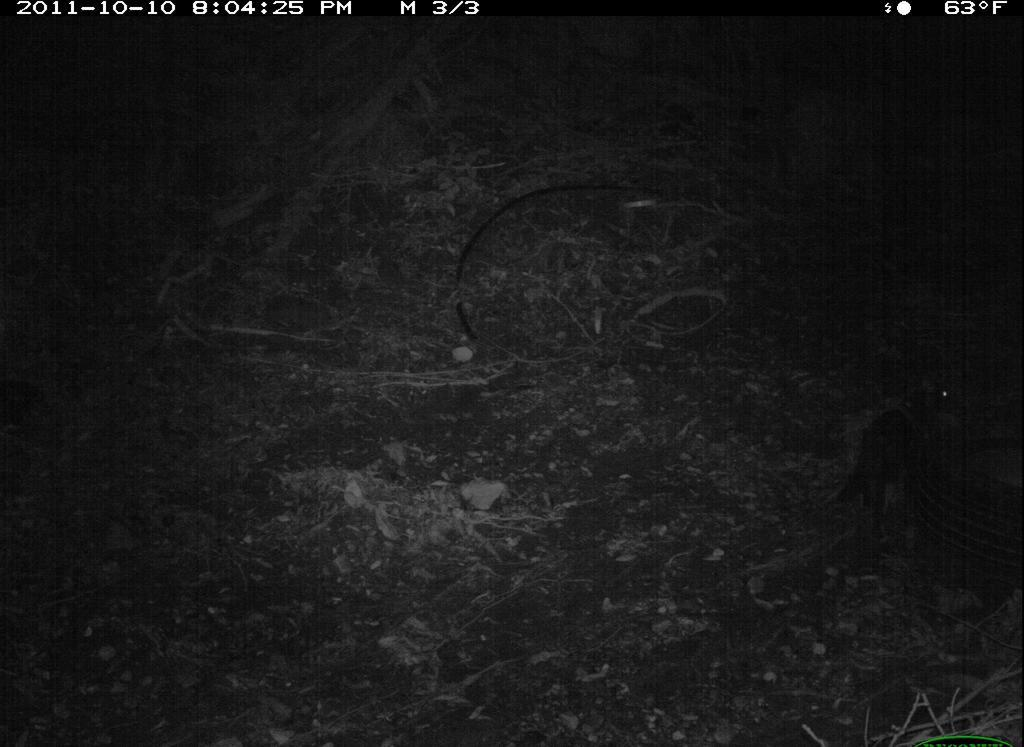cat: (838, 374, 973, 537)
